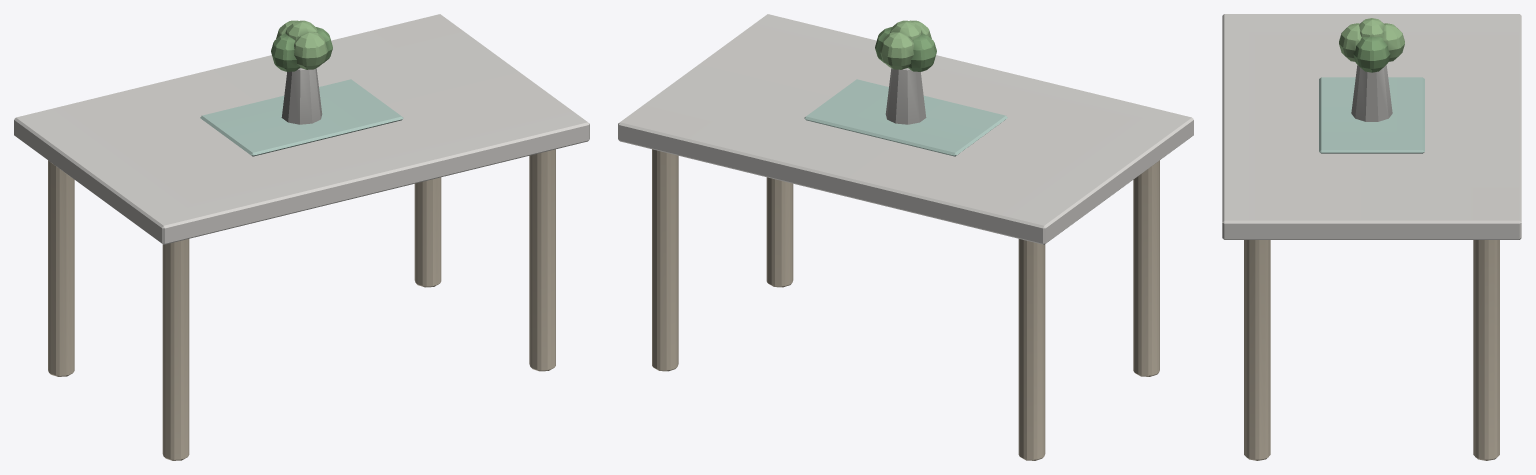
File: furn_dining_table__white.glb
3 renders of one model, left to right at view 1: azimuth 30°, elevation 25°; view 2: azimuth 150°, elevation 25°; view 3: azimuth 270°, elevation 25°, orthographic.
Size of the model in its own units: 1.4 by 1.09 by 0.85.
